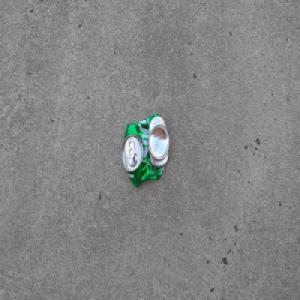SodaCan: (121, 112, 170, 187)
